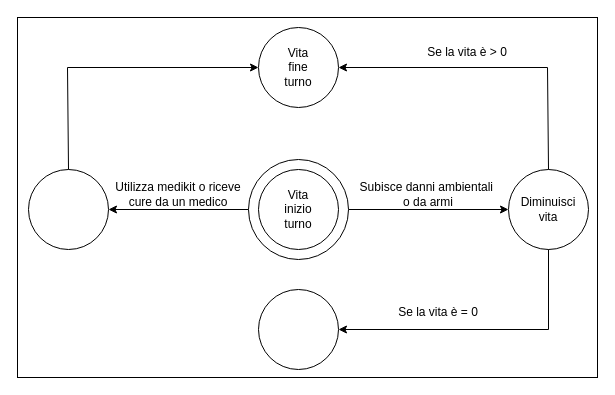
Some shapes in this 615 by 395 pixel diagram are drawn without their labels. Here are the shapes that lost their labels. From the top down, the centre of each, then its label:
the point at 68,209: Incrementa vita
the point at 298,329: Morte
